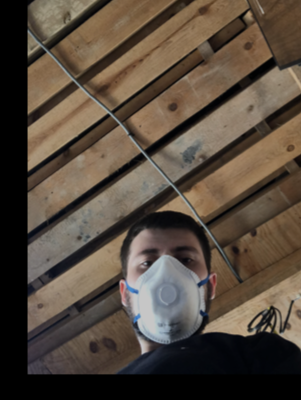with_mask: (128, 238, 209, 344)
